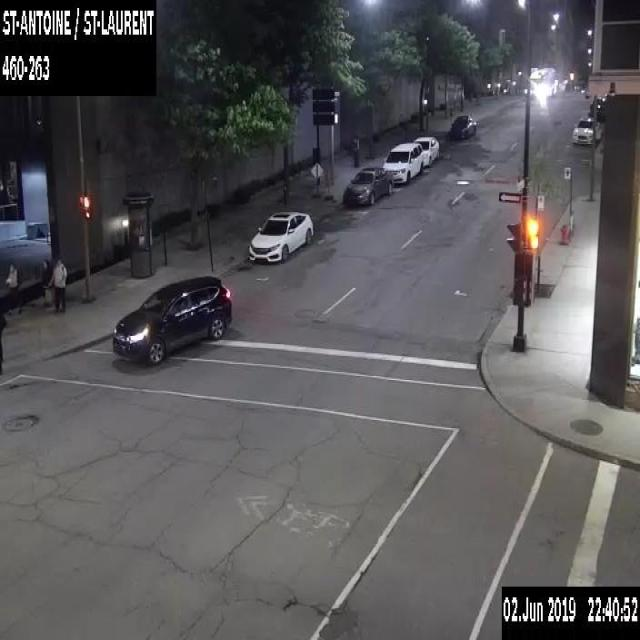construction: (310, 162, 323, 198), (323, 168, 334, 198)
pedestrian: (47, 253, 68, 312), (5, 262, 21, 314), (38, 258, 52, 308), (0, 310, 8, 374)
vehicle: (112, 275, 233, 364), (248, 209, 314, 262), (342, 166, 393, 206), (382, 141, 423, 183), (413, 136, 439, 166), (449, 113, 476, 138), (571, 115, 594, 144), (588, 96, 606, 121)
